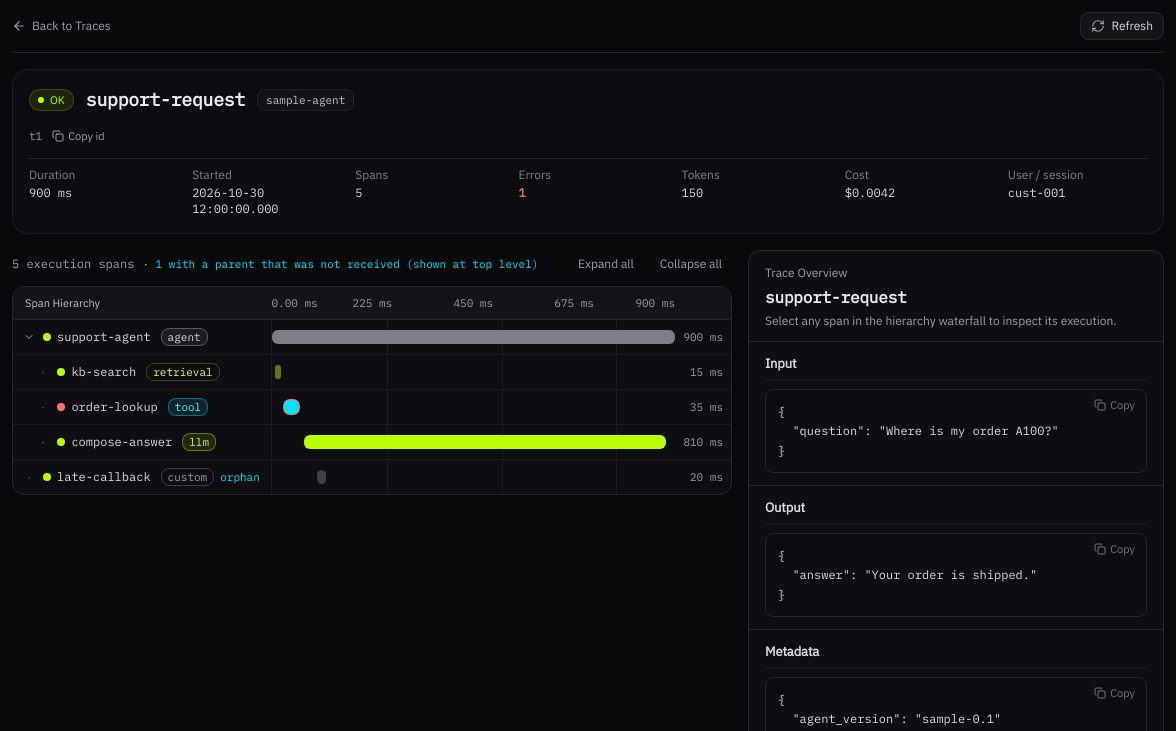
Test case: TraceDetailPage › collapses a branch
Click the button named "Collapse support-agent". click: click(29, 337)
box: [21, 329, 37, 345]
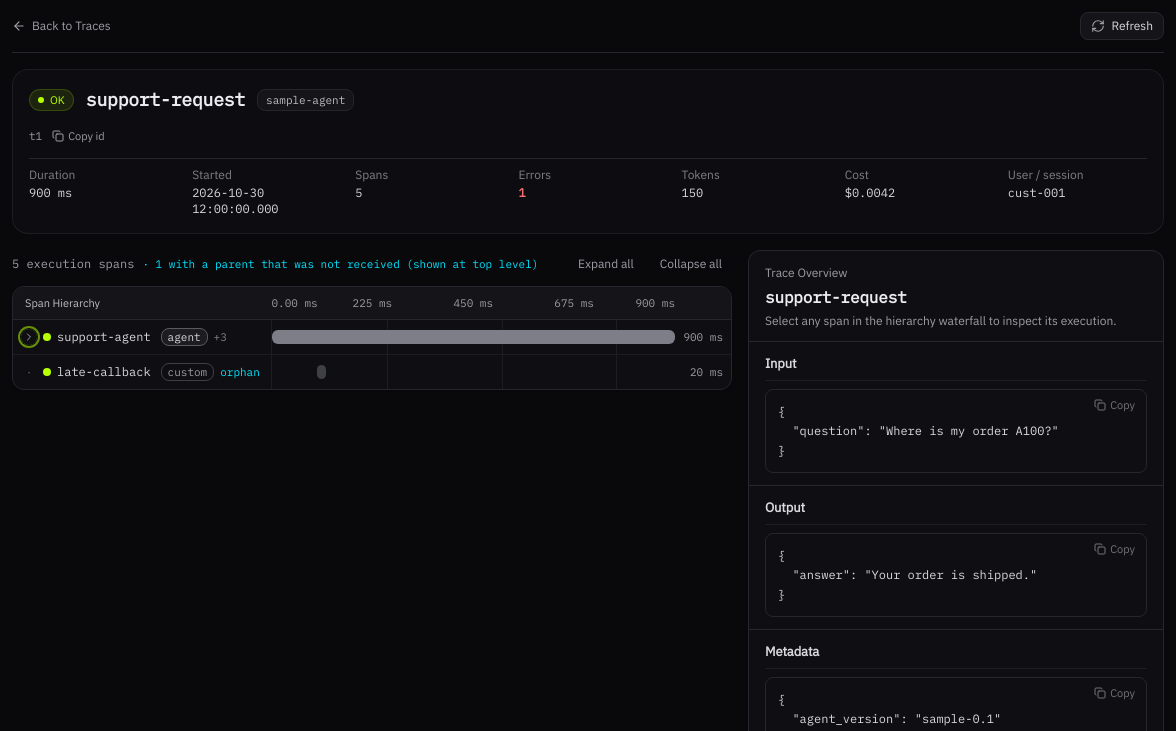
expect the number of list items is 2: met, box [13, 320, 731, 355]; [13, 355, 731, 389]
expect the text "+3" is shown: met, box [214, 329, 227, 345]
